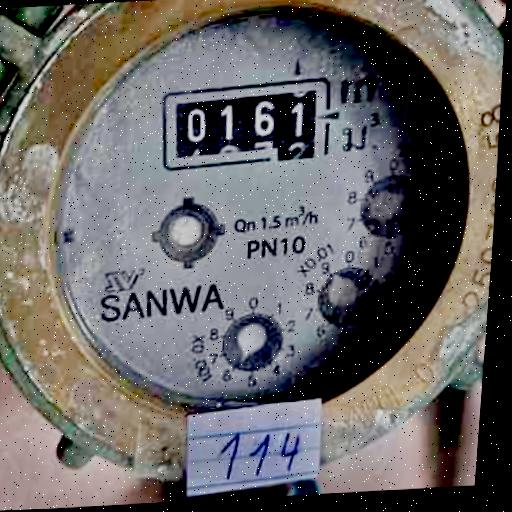0: (172, 98, 216, 159)
1: (275, 87, 319, 160), (209, 95, 251, 154)
6: (243, 91, 283, 150)
border_water_meter_number: (157, 75, 335, 172)
